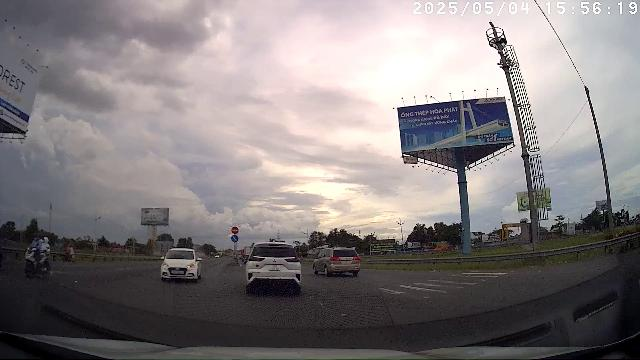102-cam-di-nguoc-chieu: (231, 226, 239, 233)
302a-huong-phai-di-vong-chuong-ngai-vat-1: (232, 236, 238, 242)
